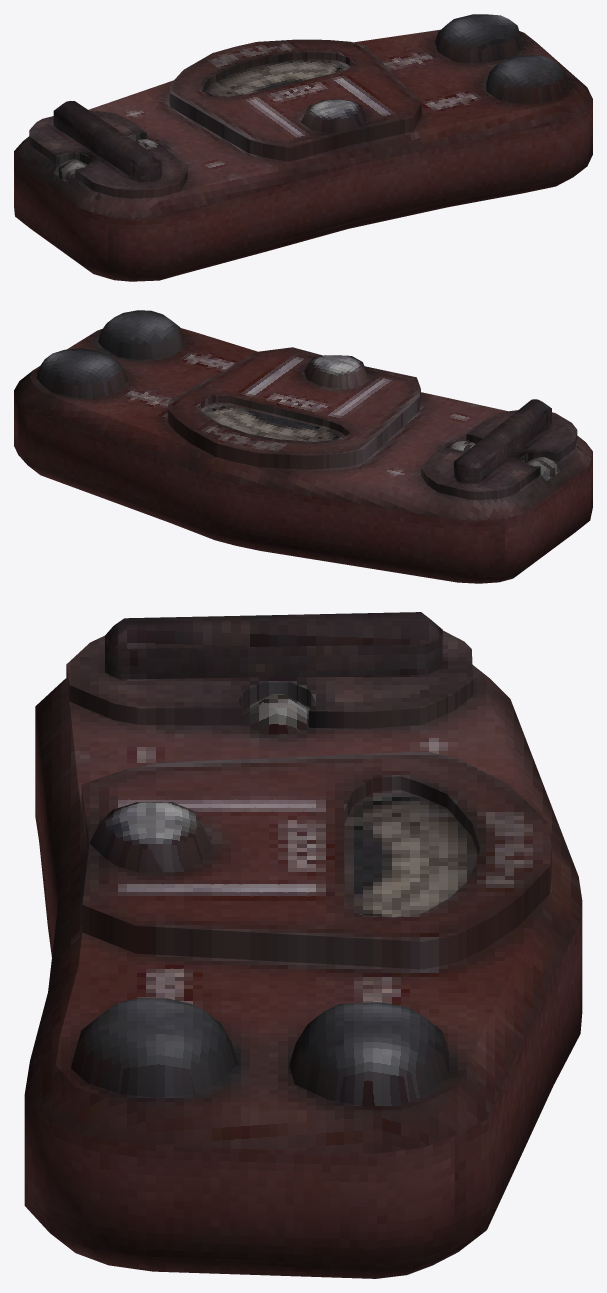
Rendered from dosimeter_1.glb.
3 renders of one model, top to bottom at view 1: azimuth 30°, elevation 25°; view 2: azimuth 150°, elevation 25°; view 3: azimuth 270°, elevation 25°, orthographic. The views are drawn at different scales.
Parts seen in each view (by area): view 1: dosimeter_1; view 2: dosimeter_1; view 3: dosimeter_1.
Part boxes in pixels (left/top/right/bottom): dosimeter_1: left=14, top=14, right=592, bottom=281; dosimeter_1: left=14, top=310, right=592, bottom=583; dosimeter_1: left=24, top=612, right=582, bottom=1278.
Size of the model in its own units: 0.3097 by 0.0656 by 0.1459.
1 material, 1 textured.
